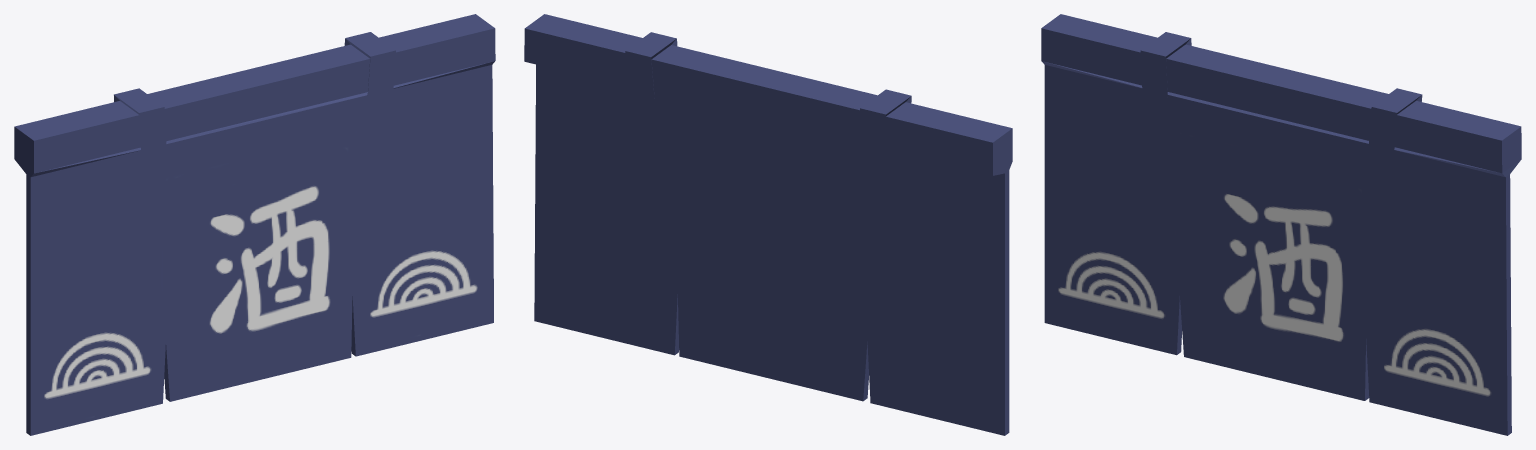
The model's file is Noren_Blue_Alcohol.fbx.
The picture shows the model from 3 angles, left to right: view 1: azimuth 30°, elevation 25°; view 2: azimuth 150°, elevation 25°; view 3: azimuth 330°, elevation 25°; orthographic projection.
Parts seen in each view (by area): view 1: Noren_Blue_Alcohol; view 2: Noren_Blue_Alcohol; view 3: Noren_Blue_Alcohol.
Boxes of the visible parts, x1,y1,x2,y2 form: Noren_Blue_Alcohol: [14, 14, 495, 435]; Noren_Blue_Alcohol: [524, 14, 1012, 435]; Noren_Blue_Alcohol: [1041, 14, 1521, 435].
Size of the model in its own units: 1 by 0.6267 by 0.0953.
1 material, 1 textured.
